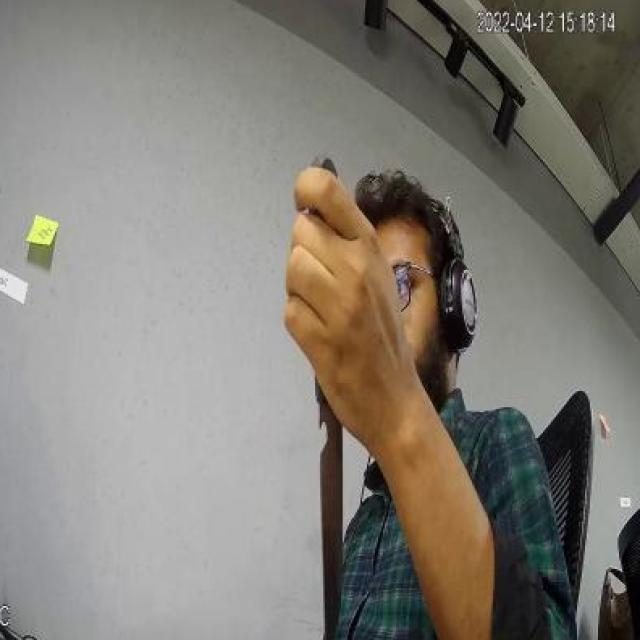Knife: (261, 161, 377, 640)
